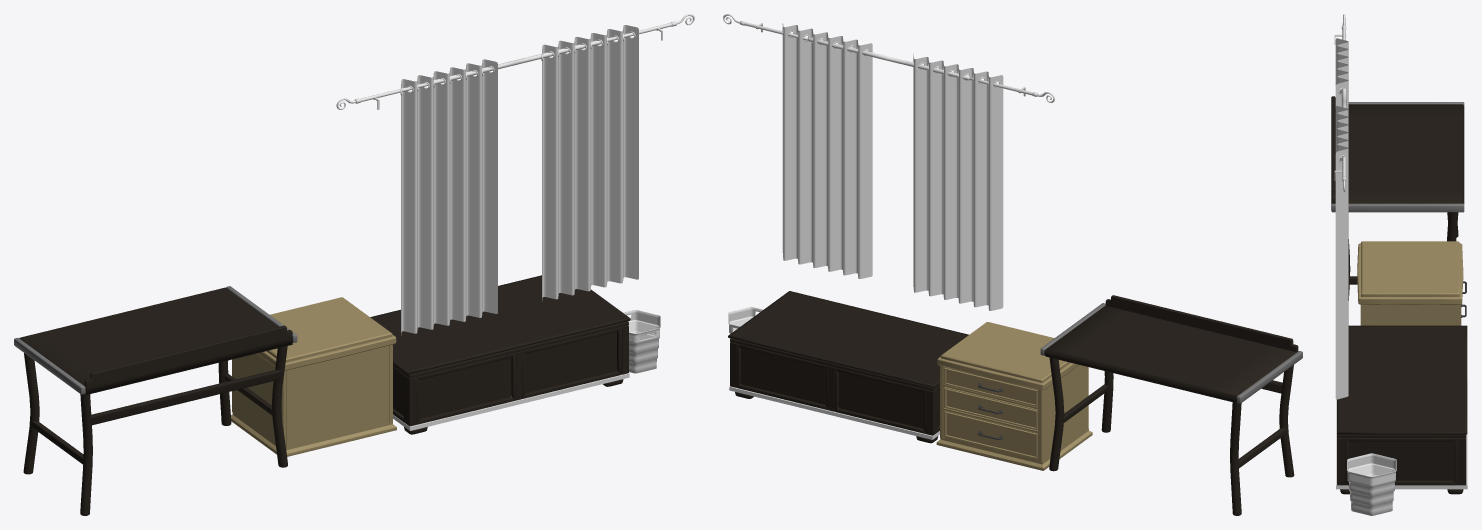
Rendered from Bedroom_SD.fbx.
3 renders of one model, left to right at view 1: azimuth 30°, elevation 25°; view 2: azimuth 150°, elevation 25°; view 3: azimuth 270°, elevation 25°, orthographic. The views are drawn at different scales.
Parts seen in each view (by area): view 1: CurtainFolds_right, CurtainFolds_left, Desk.001|desk_L_#_Desk_LINKED.blend|Dupli|, lid, Cabinette|walls_back_L_022_BedsideTable_Greebling_NormalAlte, panel.001, Desk.001|legs_L_#_Desk_LINKED.blend|Dupli|1, Cabinette|roof_L_022_BedsideTable_Greebling_NormalAltering_L, Desk.001|deskbackstopper_L_#_Desk_LINKED.blend|Dupli|3, Cabinette|walls_left_right_L_022_BedsideTable_Greebling_Norm, bin|Cylinder_L_015_Bin_Blockout_micro_handles_LINKED.blend|D, Cabinette|foundation_L_022_BedsideTable_Greebling_NormalAlte (+6 smaller); view 2: CurtainFolds_left, CurtainFolds_right, Desk.001|desk_L_#_Desk_LINKED.blend|Dupli|, lid, panel.001, Cabinette|roof_L_022_BedsideTable_Greebling_NormalAltering_L, Desk.001|legs_L_#_Desk_LINKED.blend|Dupli|1, Cabinette|walls_left_right_L_022_BedsideTable_Greebling_Norm, Cabinette|Draw.002_L_022_BedsideTable_Greebling_NormalAlteri, Desk.001|deskbackstopper_L_#_Desk_LINKED.blend|Dupli|3, Cabinette|Draw_L_022_BedsideTable_Greebling_NormalAltering_L, Cabinette|Draw.001_L_022_BedsideTable_Greebling_NormalAlteri (+8 smaller); view 3: lid, Desk.001|desk_L_#_Desk_LINKED.blend|Dupli|, Cabinette|roof_L_022_BedsideTable_Greebling_NormalAltering_L, CurtainFolds_right, panel, bin|Cylinder_L_015_Bin_Blockout_micro_handles_LINKED.blend|D, Cabinette|walls_left_right_L_022_BedsideTable_Greebling_Norm, Desk.001|deskbars_L_#_Desk_LINKED.blend|Dupli|2, CurtainFolds_left, CornerPillar, Desk.001|deskbackstopper_L_#_Desk_LINKED.blend|Dupli|3, Desk.001|legs_L_#_Desk_LINKED.blend|Dupli|1 (+6 smaller).
Part boxes in pixels (x1,y1,x2,y2): CurtainFolds_right: (542, 25, 638, 301); CurtainFolds_left: (401, 59, 497, 335); Desk.001|desk_L_#_Desk_LINKED.blend|Dupli|: (19, 287, 278, 385); lid: (370, 275, 630, 374); Cabinette|walls_back_L_022_BedsideTable_Greebling_NormalAlte: (286, 345, 388, 449); panel.001: (419, 332, 616, 418); Desk.001|legs_L_#_Desk_LINKED.blend|Dupli|1: (23, 346, 287, 515); Cabinette|roof_L_022_BedsideTable_Greebling_NormalAltering_L: (257, 297, 396, 370); Desk.001|deskbackstopper_L_#_Desk_LINKED.blend|Dupli|3: (84, 325, 292, 394); Cabinette|walls_left_right_L_022_BedsideTable_Greebling_Norm: (232, 344, 392, 447); bin|Cylinder_L_015_Bin_Blockout_micro_handles_LINKED.blend|D: (623, 310, 660, 373); Cabinette|foundation_L_022_BedsideTable_Greebling_NormalAlte: (231, 413, 396, 456); CurtainFolds_left: (913, 54, 1003, 310); CurtainFolds_right: (782, 23, 872, 278); Desk.001|desk_L_#_Desk_LINKED.blend|Dupli|: (1044, 305, 1295, 402); lid: (728, 291, 968, 387); panel.001: (741, 348, 923, 428); Cabinette|roof_L_022_BedsideTable_Greebling_NormalAltering_L: (937, 322, 1078, 390); Desk.001|legs_L_#_Desk_LINKED.blend|Dupli|1: (1049, 357, 1294, 515); Cabinette|walls_left_right_L_022_BedsideTable_Greebling_Norm: (940, 365, 1088, 462); Cabinette|Draw.002_L_022_BedsideTable_Greebling_NormalAlteri: (944, 410, 1038, 459); Desk.001|deskbackstopper_L_#_Desk_LINKED.blend|Dupli|3: (1105, 295, 1298, 352); Cabinette|Draw_L_022_BedsideTable_Greebling_NormalAltering_L: (944, 387, 1038, 430); Cabinette|Draw.001_L_022_BedsideTable_Greebling_NormalAlteri: (944, 366, 1038, 407); lid: (1337, 325, 1467, 434); Desk.001|desk_L_#_Desk_LINKED.blend|Dupli|: (1348, 104, 1464, 203); Cabinette|roof_L_022_BedsideTable_Greebling_NormalAltering_L: (1357, 241, 1463, 304); CurtainFolds_right: (1335, 106, 1348, 399); panel: (1349, 442, 1453, 480); bin|Cylinder_L_015_Bin_Blockout_micro_handles_LINKED.blend|D: (1347, 453, 1396, 515); Cabinette|walls_left_right_L_022_BedsideTable_Greebling_Norm: (1360, 304, 1461, 325); Desk.001|deskbars_L_#_Desk_LINKED.blend|Dupli|2: (1331, 102, 1464, 212); CurtainFolds_left: (1335, 38, 1348, 108); CornerPillar: (1337, 438, 1466, 485); Desk.001|deskbackstopper_L_#_Desk_LINKED.blend|Dupli|3: (1331, 96, 1335, 210); Desk.001|legs_L_#_Desk_LINKED.blend|Dupli|1: (1348, 212, 1458, 300).
Bounding box in the file's own units: 465 × 254 × 90.02.
